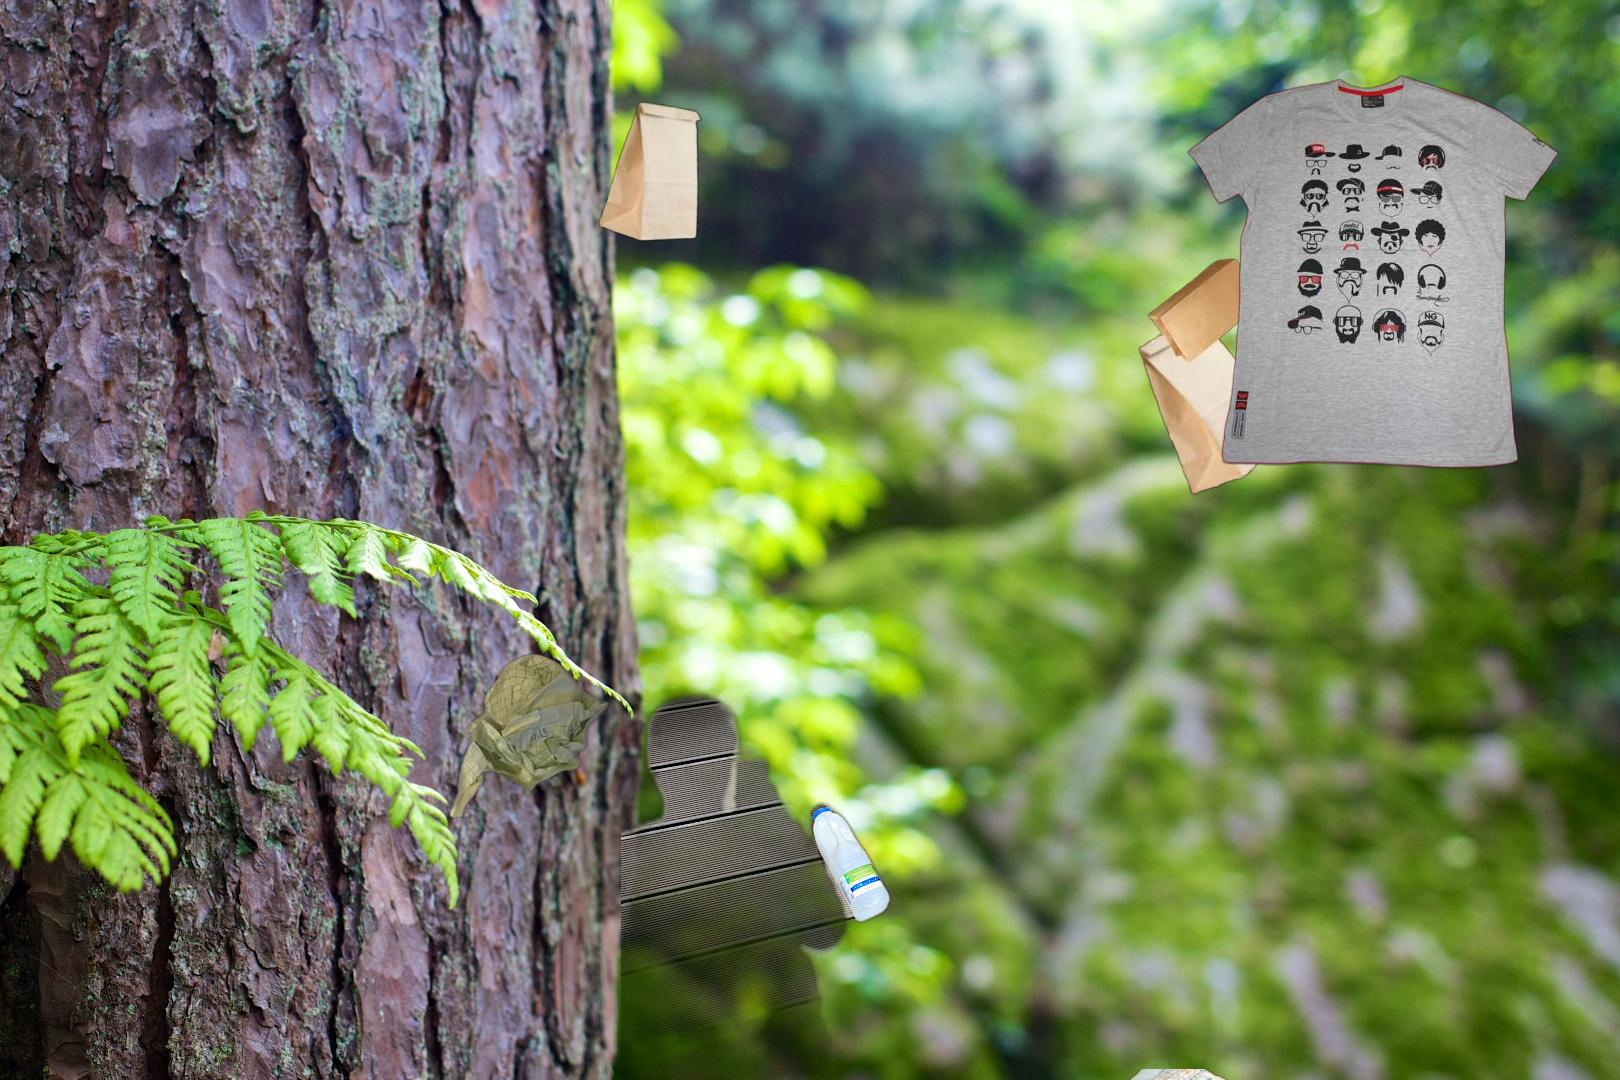clothes: (1185, 71, 1562, 472)
paper: (445, 650, 614, 822)
paper-bag: (1053, 221, 1296, 498), (595, 96, 703, 243)
plastic-bottles: (621, 686, 970, 1080)
trash: (1061, 1069, 1320, 1080)
